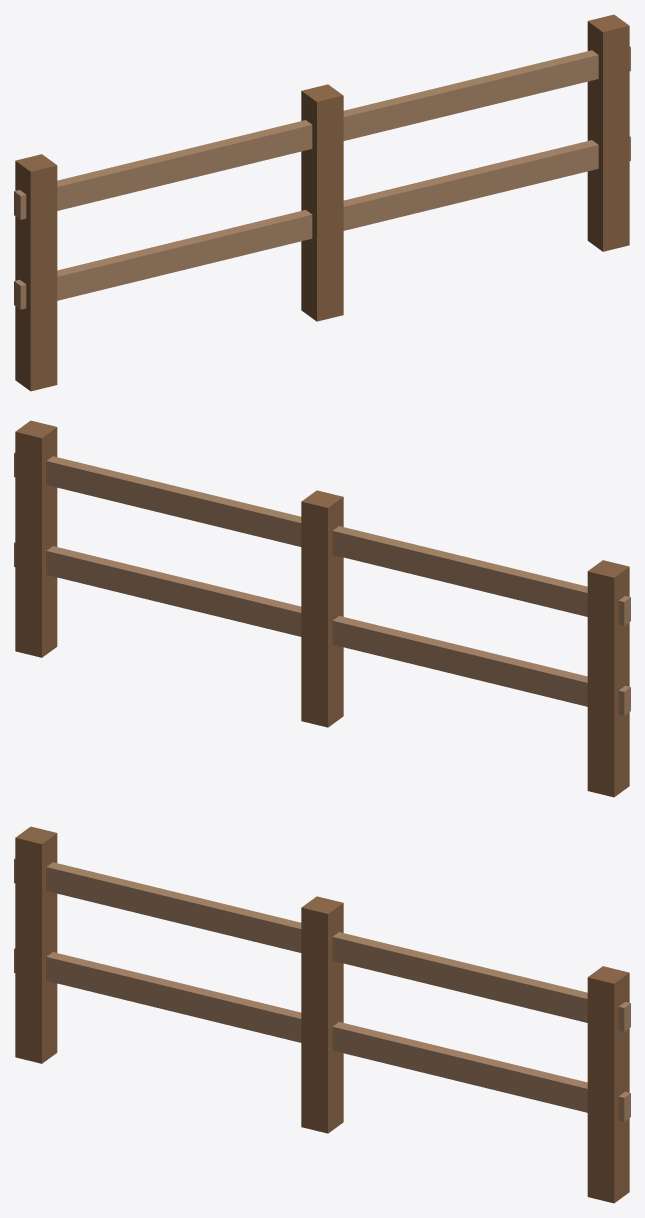
The model's file is fence.glb.
The picture shows the model from 3 angles, top to bottom: view 1: azimuth 30°, elevation 25°; view 2: azimuth 150°, elevation 25°; view 3: azimuth 330°, elevation 25°; orthographic projection.
Visible parts, largest first — view 1: fence; view 2: fence; view 3: fence.
Boxes of the visible parts, left/top/right/bottom form: fence: left=14, top=14, right=630, bottom=391; fence: left=14, top=420, right=630, bottom=797; fence: left=14, top=826, right=630, bottom=1203.
Size of the model in its own units: 3.2 by 1.1 by 0.1398.
